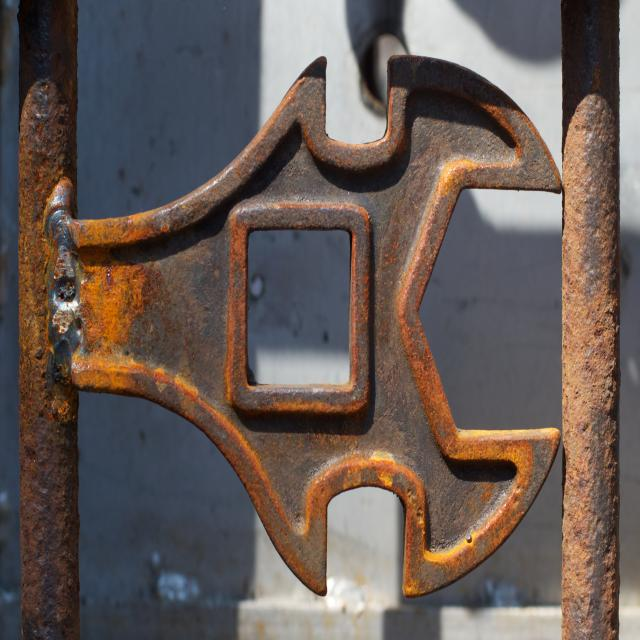corrosion: (5, 1, 640, 639)
